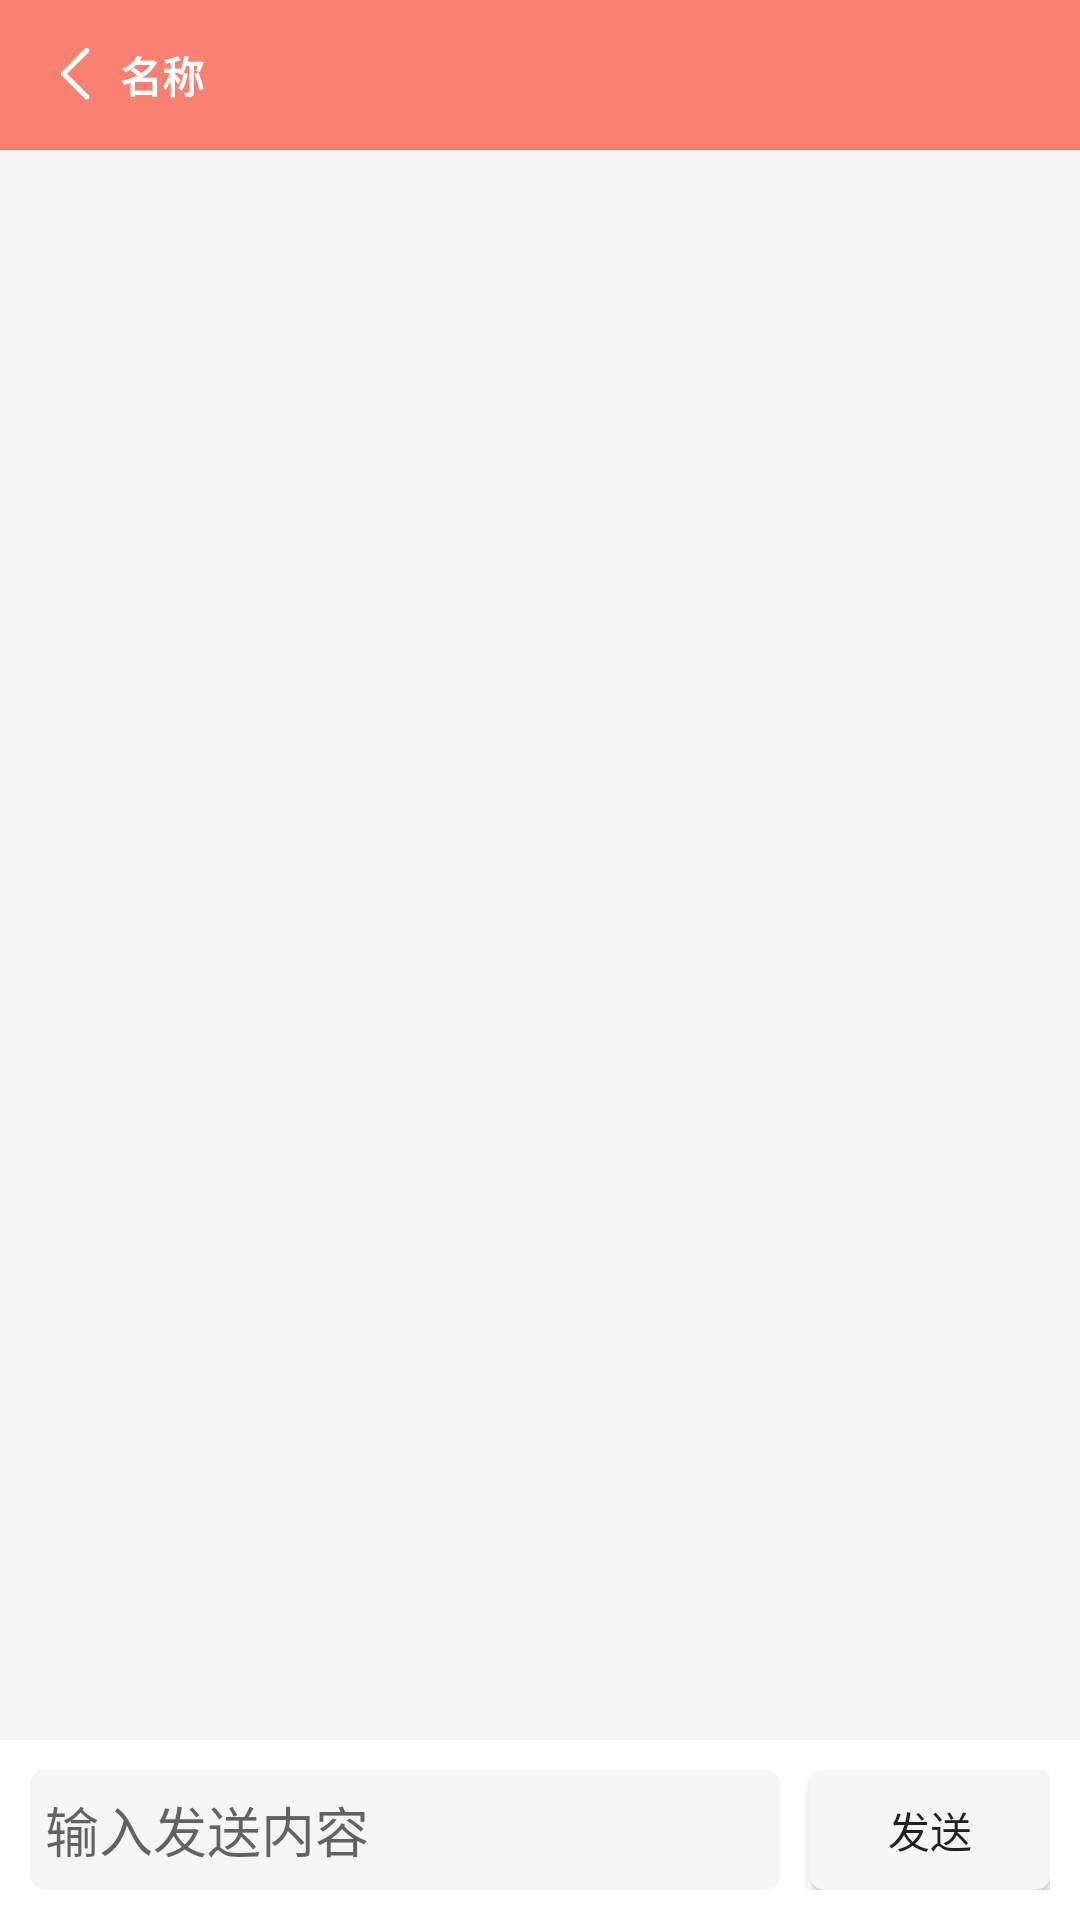

Where to tap for icons on this 1080px x 1920px app screen, as point (x, y):
back: point (75, 74)
